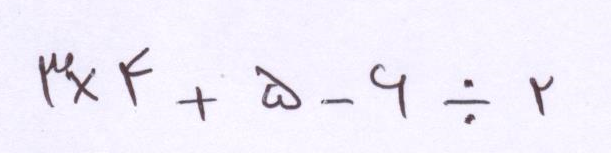character: (443, 78, 489, 125), (118, 48, 151, 110), (39, 52, 73, 112), (369, 63, 406, 118), (255, 65, 299, 109), (176, 86, 215, 120), (65, 68, 97, 104), (529, 75, 552, 114), (321, 99, 357, 119)
